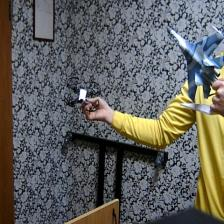drone: (60, 70, 102, 114)
